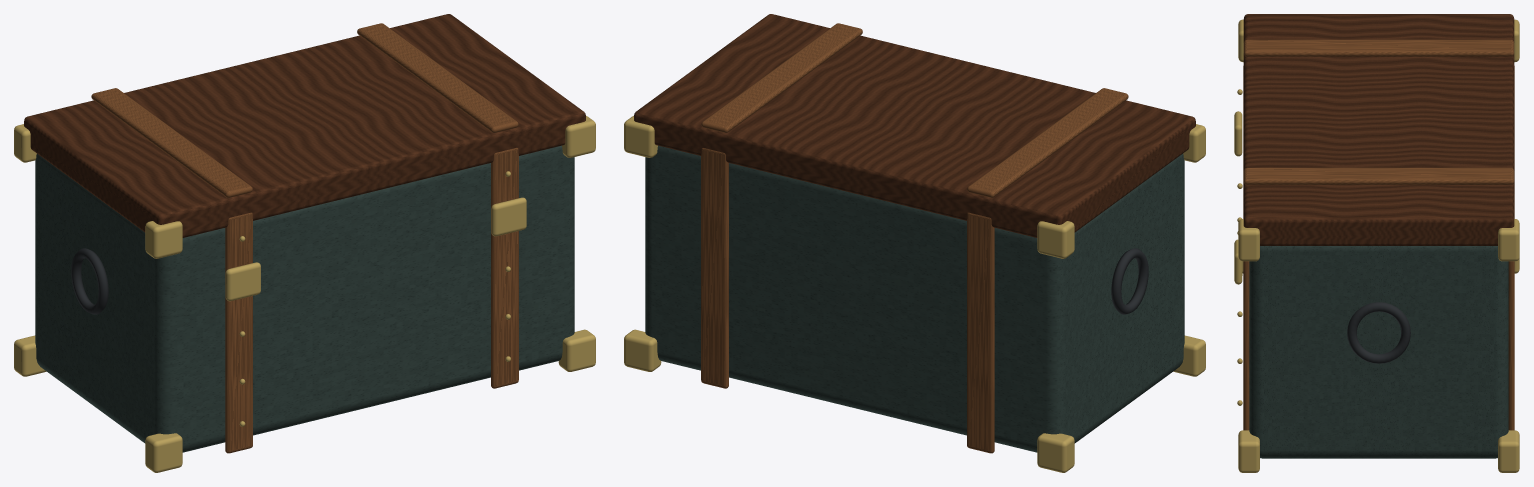
The model's file is travel-trunk.glb.
3 renders of one model, left to right at view 1: azimuth 30°, elevation 25°; view 2: azimuth 150°, elevation 25°; view 3: azimuth 270°, elevation 25°, orthographic.
Visible parts, largest first — view 1: travel-trunk; view 2: travel-trunk; view 3: travel-trunk.
Part boxes in pixels (x1=…): travel-trunk: x1=14, y1=14, x2=595, y2=472; travel-trunk: x1=624, y1=14, x2=1205, y2=472; travel-trunk: x1=1234, y1=14, x2=1519, y2=472.
Bounding box in the file's own units: 0.85 × 0.48 × 0.48.
5 materials, 3 textured.
